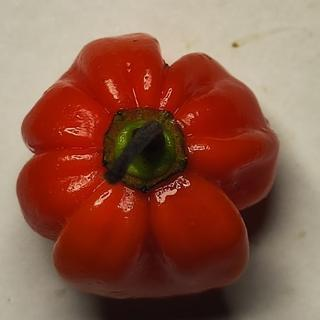Grade-B: (10, 25, 285, 307)
